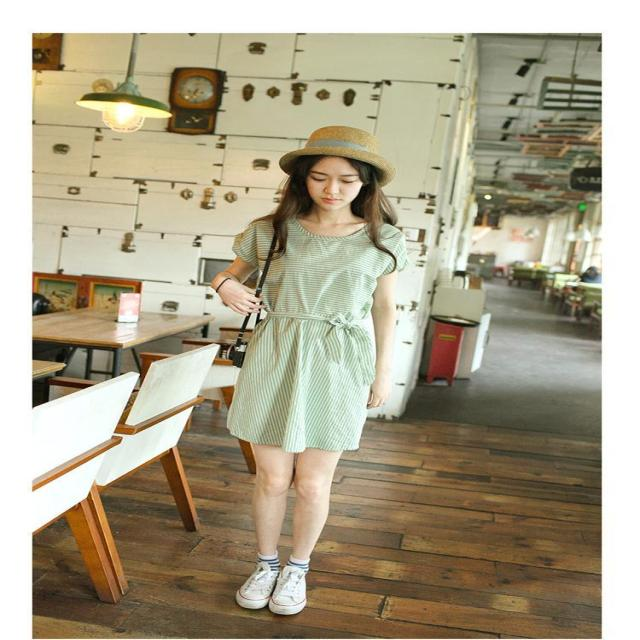short sleeve dress: (228, 217, 412, 452)
